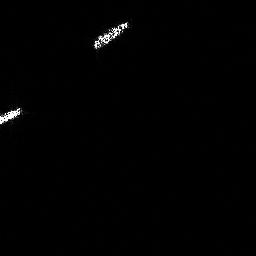ship: (93, 20, 129, 49), (1, 107, 23, 125)
